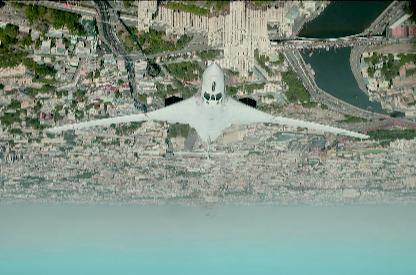Su34: (47, 62, 370, 182)
